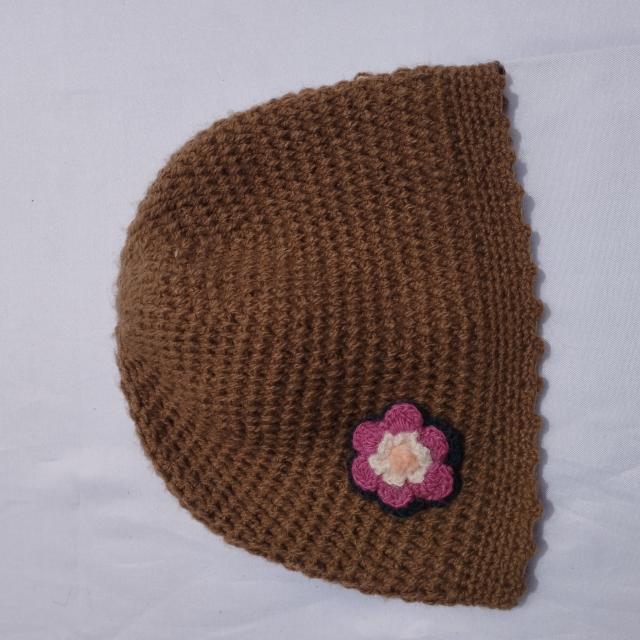Gorro: (112, 59, 548, 610)
